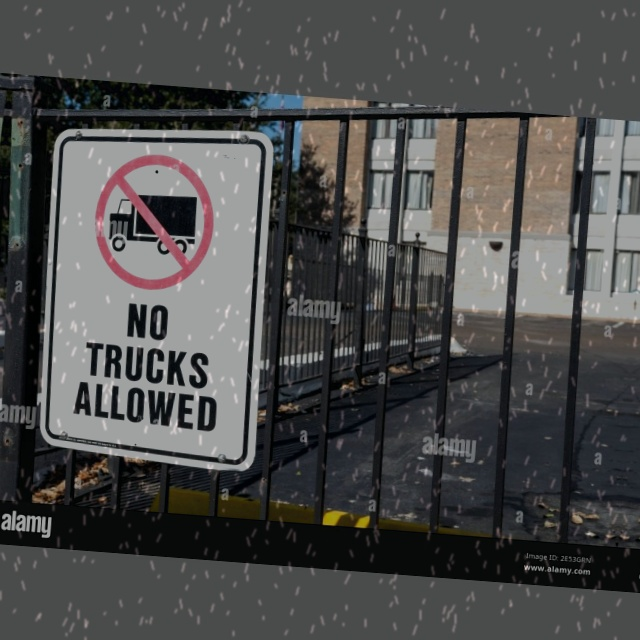Truck_Prohibited: (81, 139, 225, 305)
